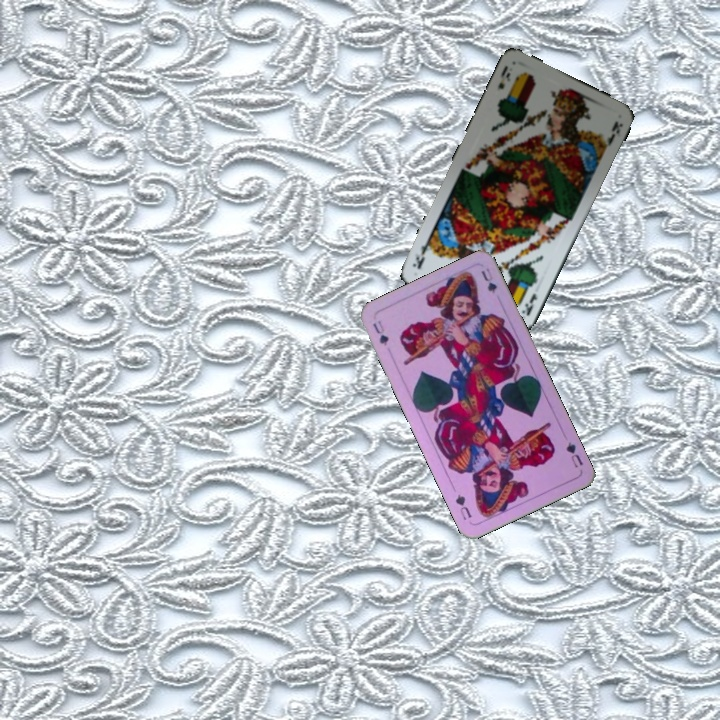EK: (517, 289, 540, 319), (493, 61, 513, 93)
GU: (562, 438, 585, 471), (368, 316, 391, 349)
